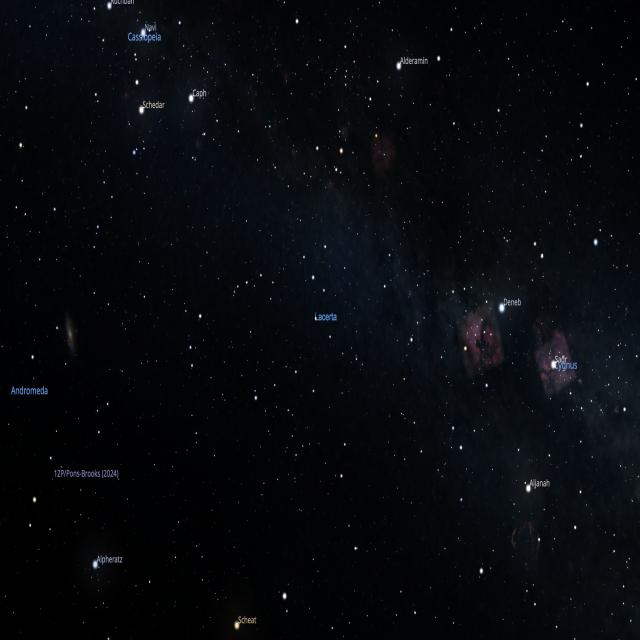Lacerta: (309, 239, 346, 485)
